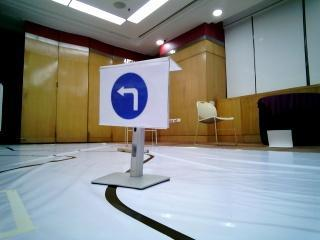left: (105, 71, 165, 129)
